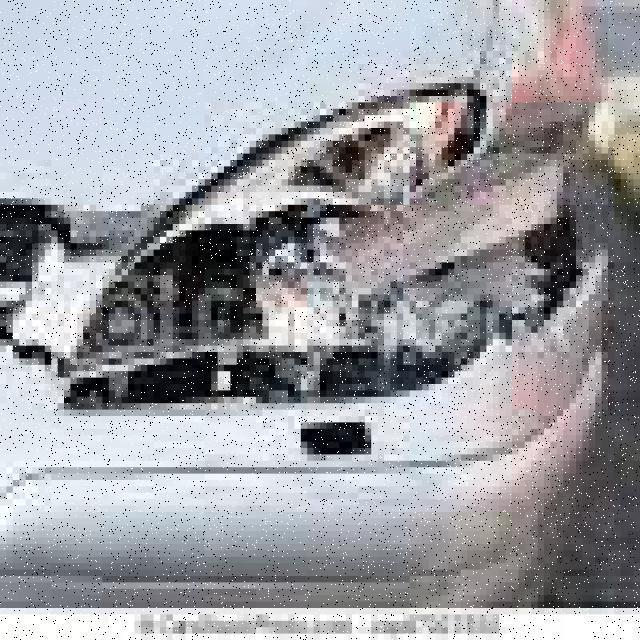Headlight-Damage: (0, 77, 634, 422)
